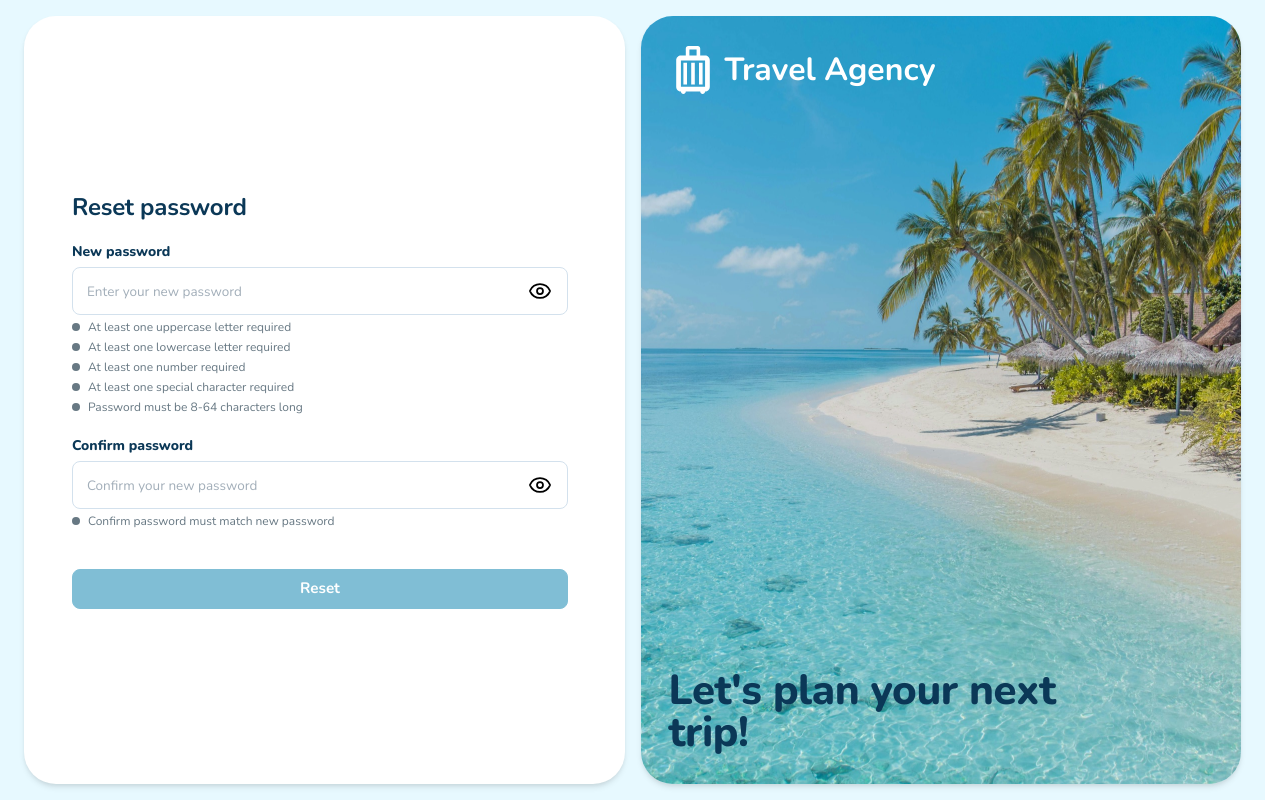
Scenario: NewPasswordScreen Component › displays Toast error message on ApiError 500 server error response
The width and height of the screenshot is (1280, 800).
In the password field labelled "New password": point(320, 291) left=72, top=267, right=568, bottom=315, type "NewSecret123!"
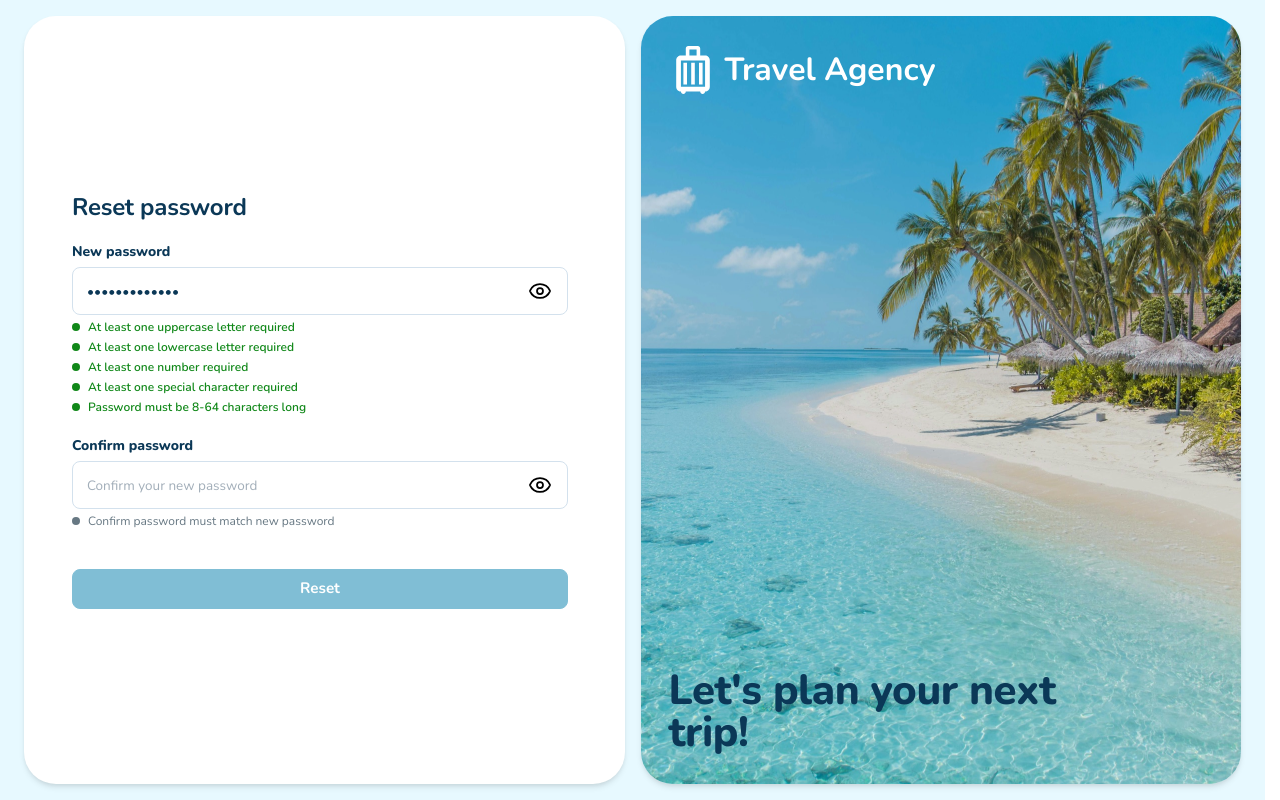
In the password field labelled "Confirm password": point(320, 485) left=72, top=461, right=568, bottom=509, type "NewSecret123!"
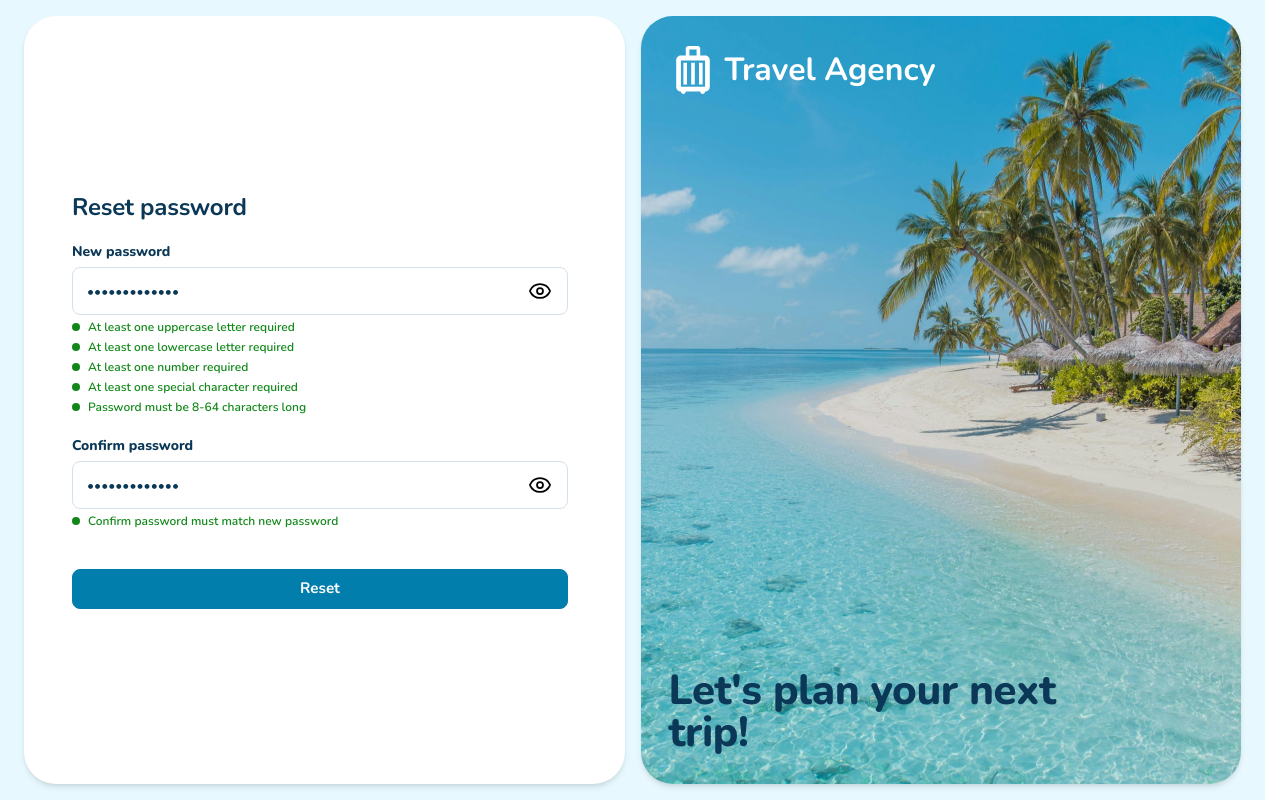
Click the button "Reset": point(320, 589) left=72, top=569, right=568, bottom=609
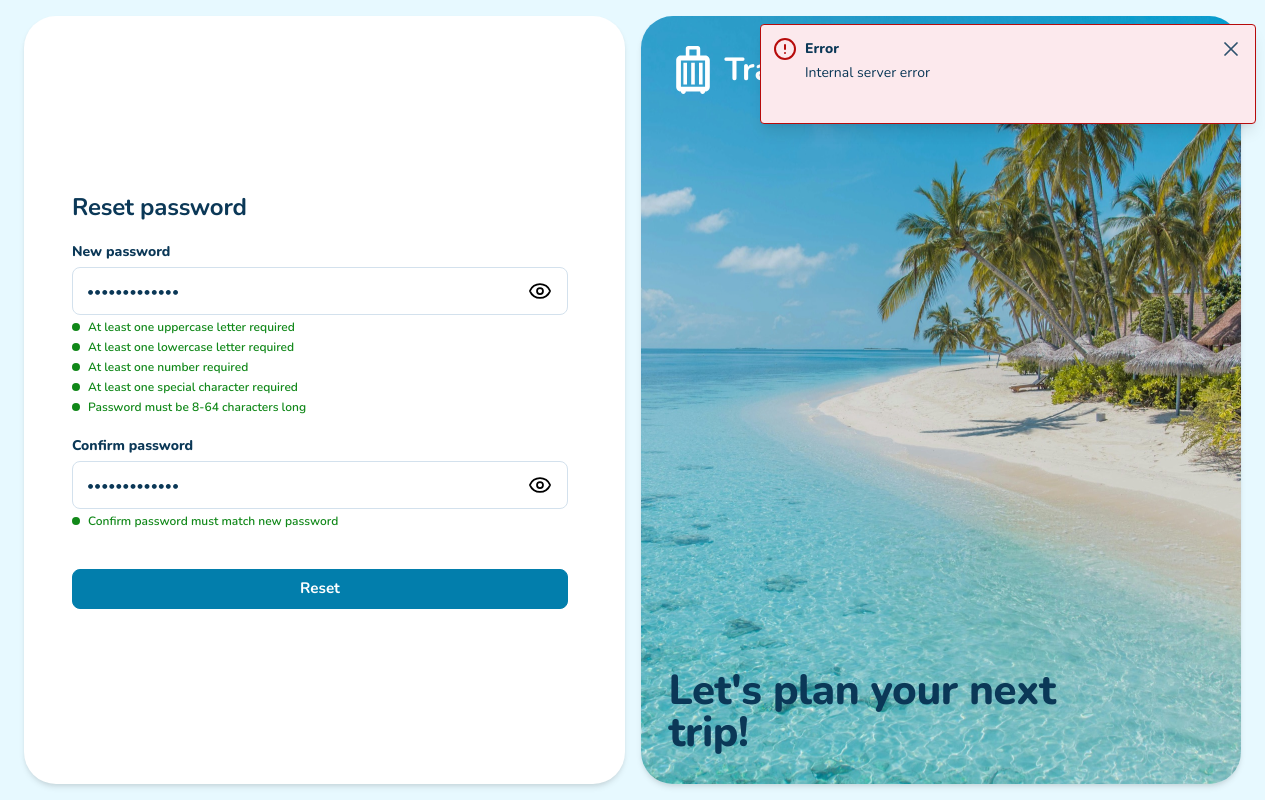
Check: the text "Internal server error" is shown, box left=805, top=61, right=930, bottom=85
